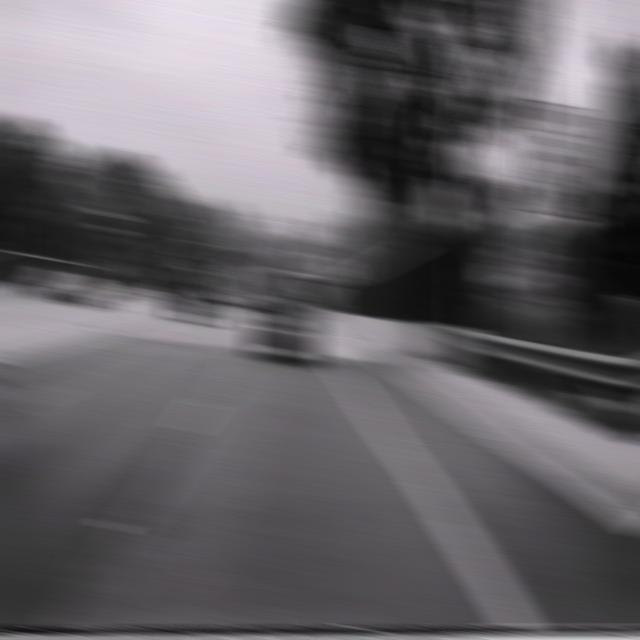pedestrianCrossing: (320, 250, 351, 283)
